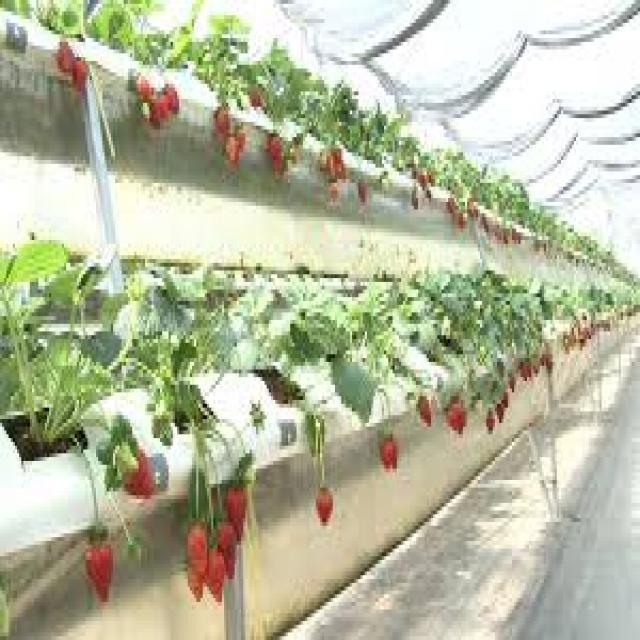Fruta sana: (75, 530, 118, 602), (220, 518, 242, 592), (132, 71, 159, 130), (121, 448, 152, 497), (230, 478, 250, 551), (204, 547, 226, 613), (321, 145, 344, 194), (185, 564, 208, 612), (316, 479, 330, 538), (268, 126, 282, 175), (447, 404, 464, 444), (192, 523, 206, 570), (228, 122, 240, 172), (413, 402, 433, 432), (58, 43, 74, 80), (384, 436, 400, 469), (166, 85, 182, 116), (216, 105, 231, 132)
